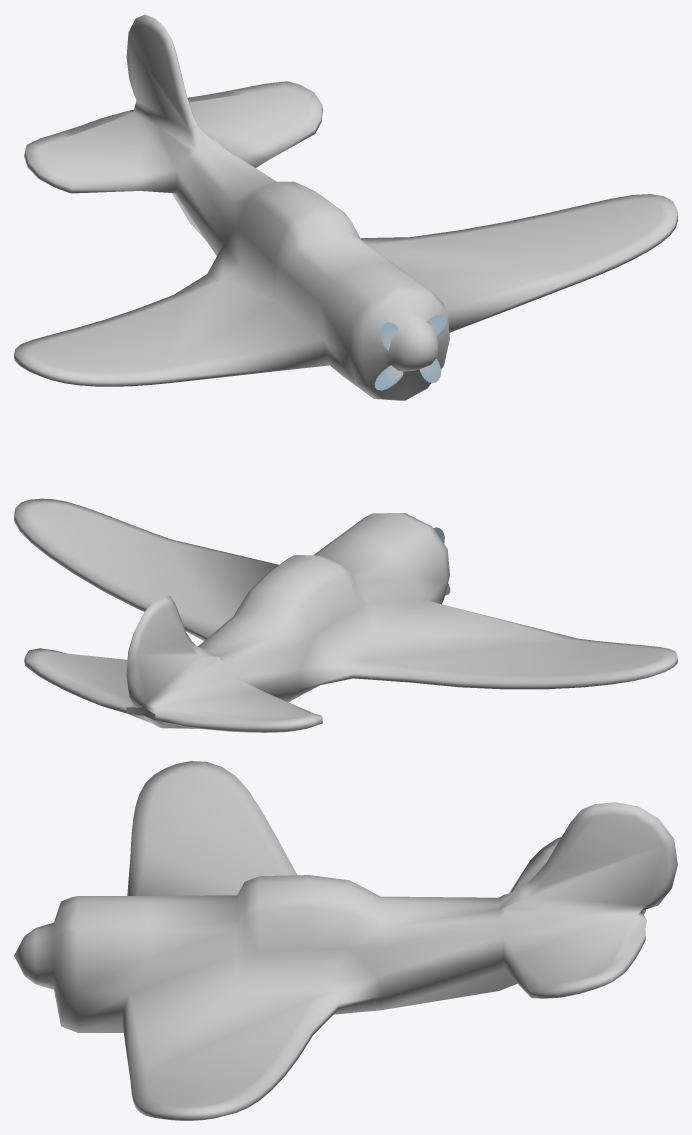
File: WarPlane.FBX
3 views of the same model, one above another, from view 1: azimuth 30°, elevation 25°; view 2: azimuth 150°, elevation 25°; view 3: azimuth 270°, elevation 25° (orthographic). The views are drawn at different scales.
Parts seen in each view (by area): view 1: WarPlane, Propeller; view 2: WarPlane; view 3: WarPlane.
Part boxes in pixels (x1,y1,x2,y2): WarPlane: [14, 14, 677, 400]; Propeller: [374, 315, 446, 390]; WarPlane: [14, 498, 677, 732]; WarPlane: [14, 761, 677, 1120].
Bounding box in the file's own units: 239 × 76.46 × 190.
